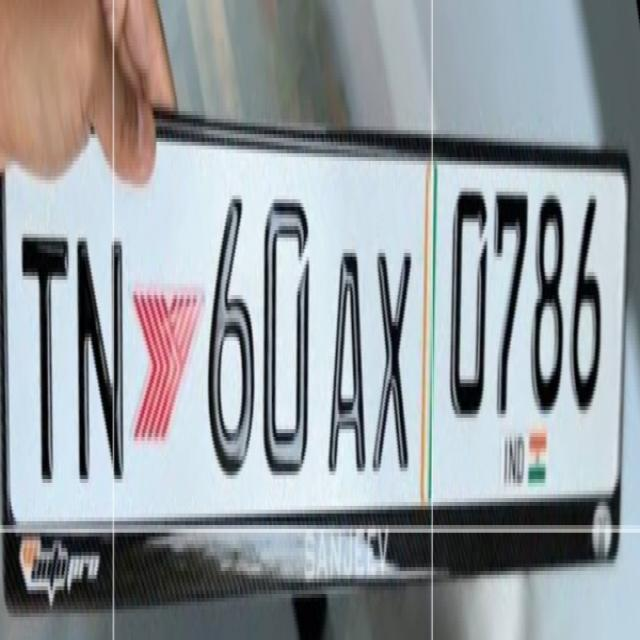0: (264, 185, 312, 499), (448, 163, 491, 427)
6: (207, 163, 259, 490), (567, 183, 608, 434)
7: (492, 160, 532, 436)
8: (528, 176, 566, 447)
A: (328, 228, 368, 492)
N: (71, 217, 130, 490)
T: (16, 208, 72, 501)
X: (370, 214, 415, 490)
